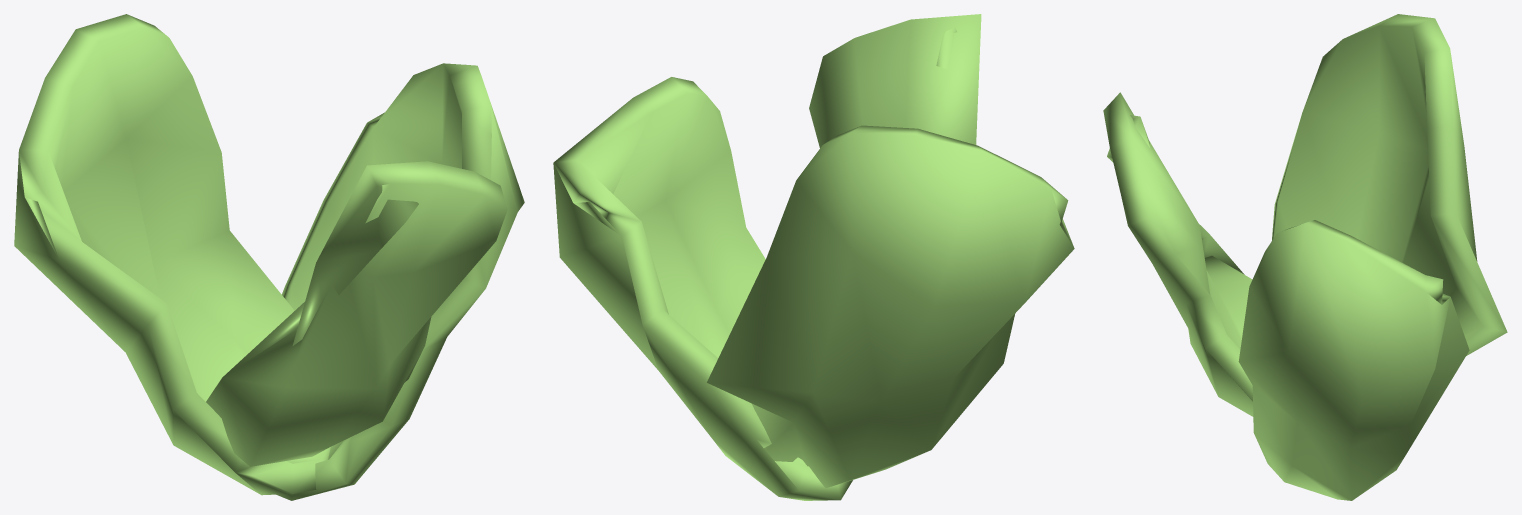
The model's file is fbx_salad_tiny.fbx.
3 renders of one model, left to right at view 1: azimuth 30°, elevation 25°; view 2: azimuth 150°, elevation 25°; view 3: azimuth 270°, elevation 25°, orthographic. The views are drawn at different scales.
Visible parts, largest first — view 1: TinyLettuce; view 2: TinyLettuce; view 3: TinyLettuce.
Boxes of the visible parts, box(x1,y1,x2,y2) form: TinyLettuce: box(14, 14, 524, 500); TinyLettuce: box(553, 14, 1074, 500); TinyLettuce: box(1103, 14, 1507, 500).
Bounding box in the file's own units: 19.71 × 17.31 × 15.55.
